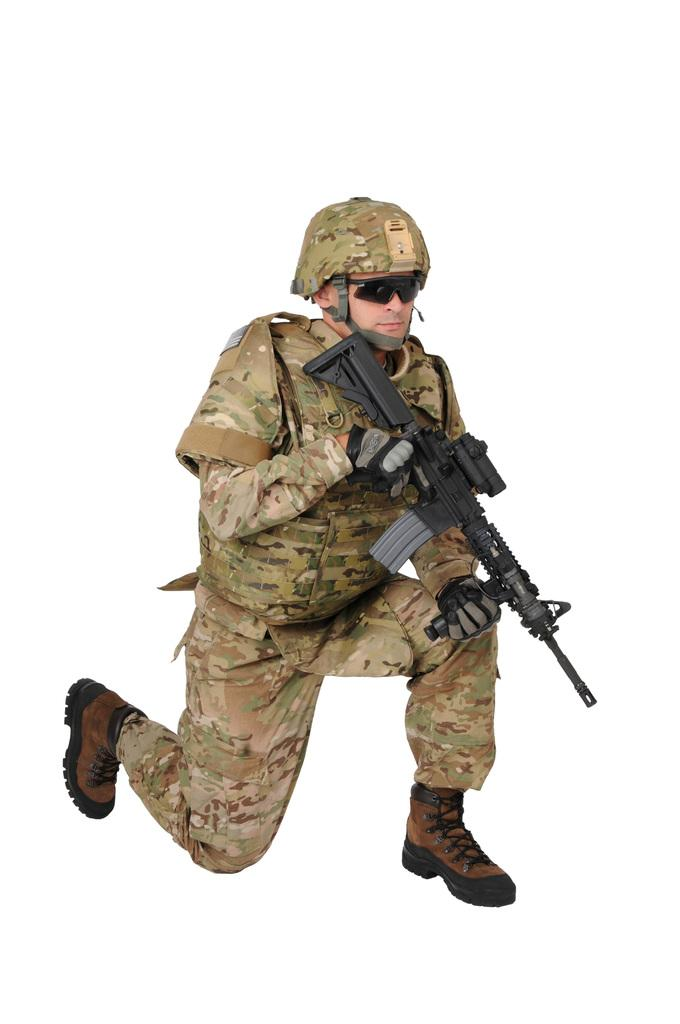Rifle: (296, 371, 606, 758)
